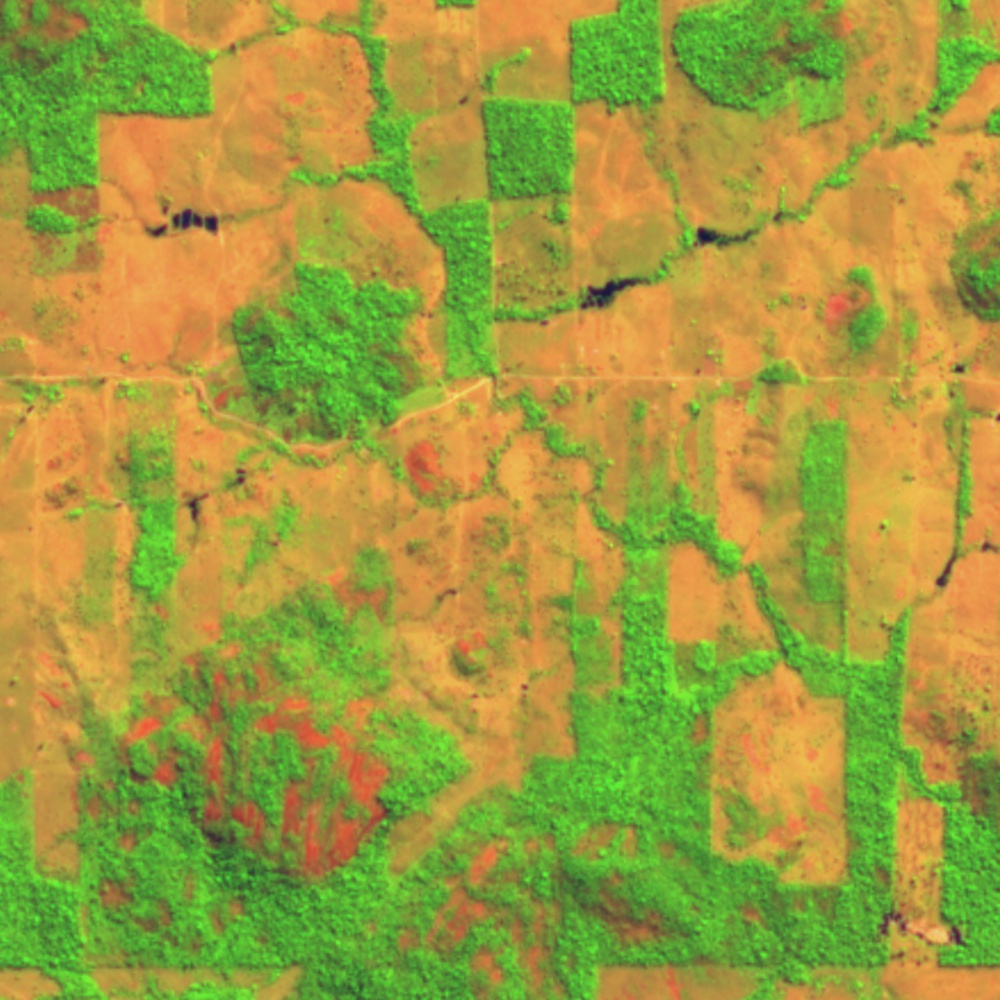legal: (875, 796, 968, 954), (175, 463, 252, 528), (133, 200, 226, 243), (692, 210, 791, 250), (945, 360, 1000, 424), (936, 537, 994, 589), (574, 276, 655, 308)
